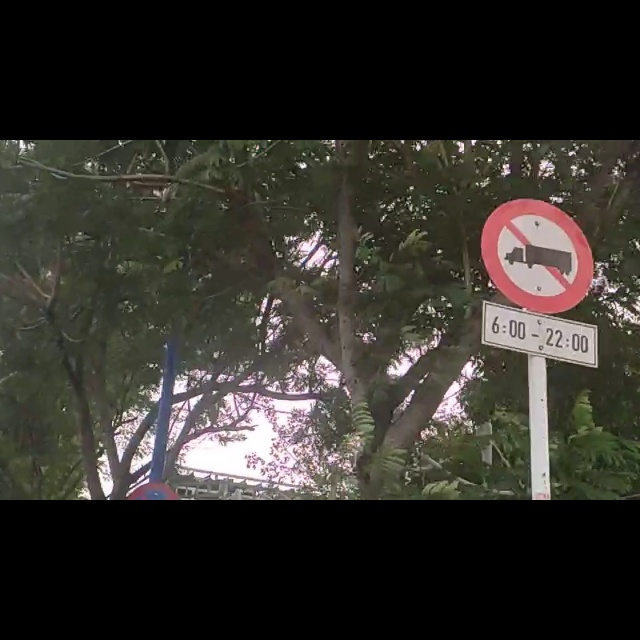bien_cam: (472, 104, 607, 399)
